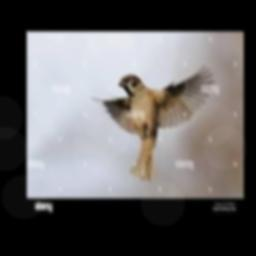Sparrow: (91, 64, 213, 180)
